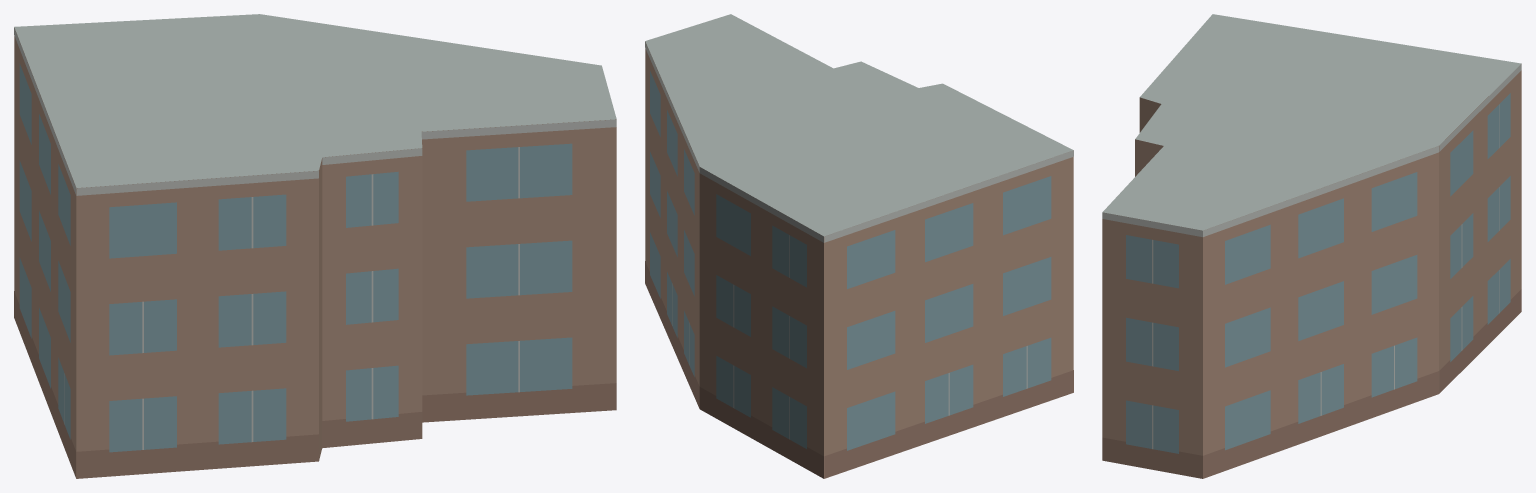
File: survey-upis-32510919.glb
The picture shows the model from 3 angles, left to right: view 1: azimuth 30°, elevation 25°; view 2: azimuth 150°, elevation 25°; view 3: azimuth 270°, elevation 25°; orthographic projection. The views are drawn at different scales.
Parts seen in each view (by area): view 1: survey-upis-32510919.tmp; view 2: survey-upis-32510919.tmp; view 3: survey-upis-32510919.tmp.
Boxes of the visible parts, <box> form: survey-upis-32510919.tmp: <box>14,14,616,478</box>; survey-upis-32510919.tmp: <box>645,14,1073,478</box>; survey-upis-32510919.tmp: <box>1102,14,1521,478</box>.
Size of the model in its own units: 17.13 by 9.15 by 14.02.
